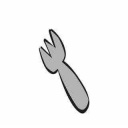Fork: (28, 25, 102, 114)
